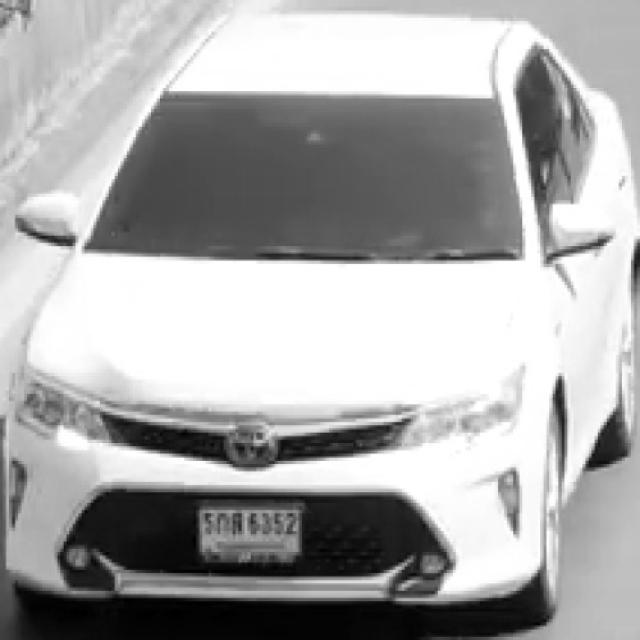plate: (196, 503, 304, 569)
